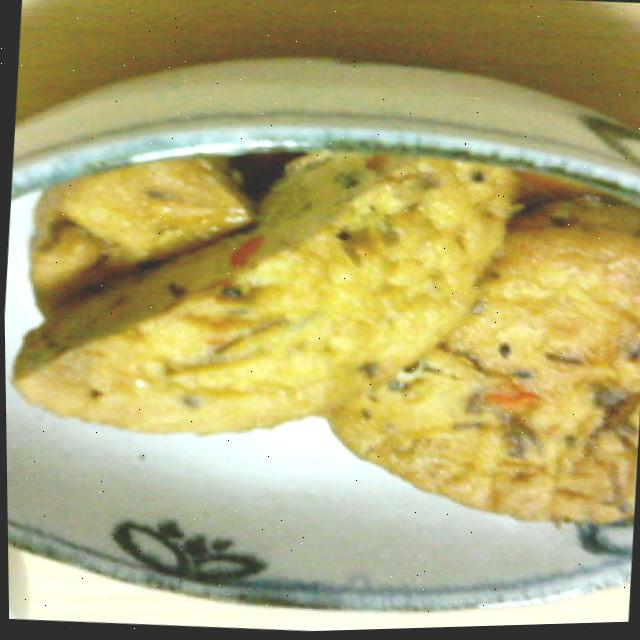熟制海鲜: (1, 72, 640, 561)
